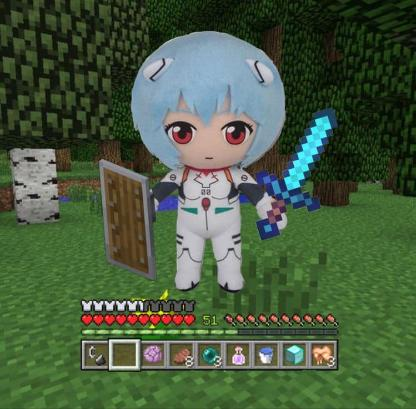rei-plush: (108, 24, 308, 297)
